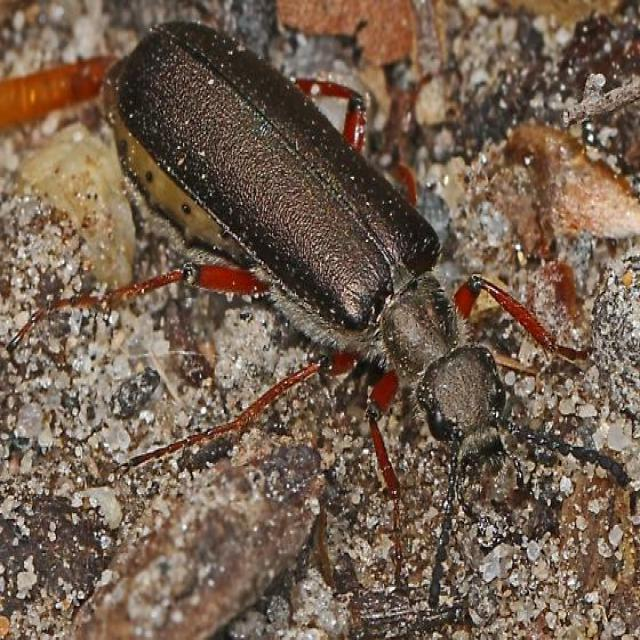BlisterBeetle-Adult-: (84, 17, 586, 529)
